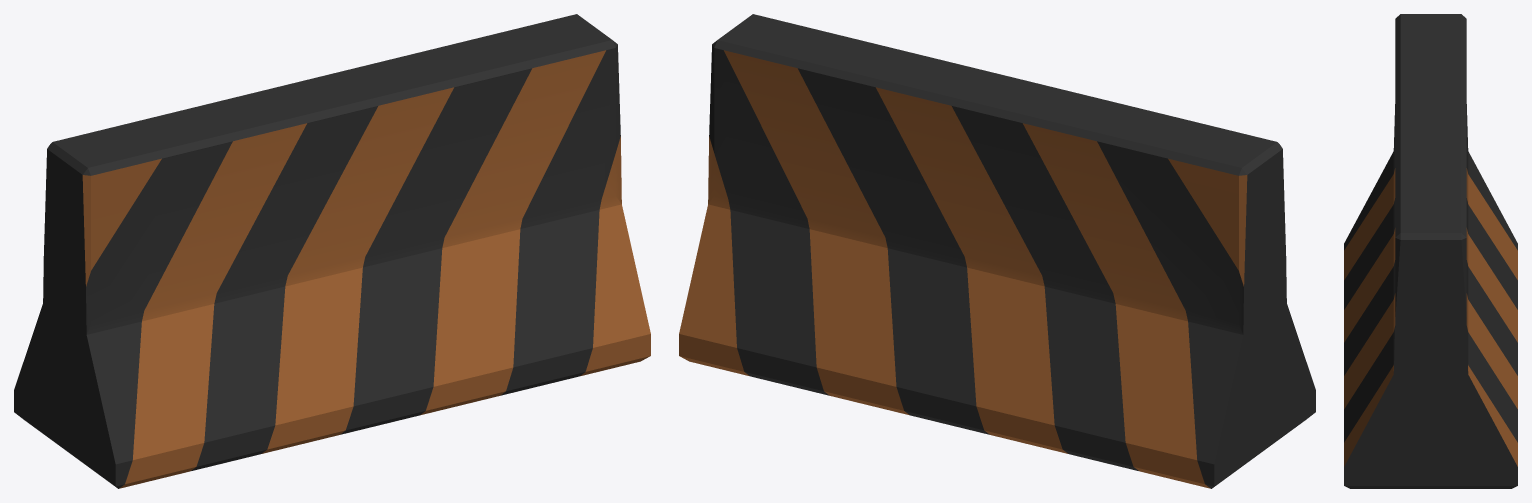
Rendered from props_59.glb.
3 renders of one model, left to right at view 1: azimuth 30°, elevation 25°; view 2: azimuth 150°, elevation 25°; view 3: azimuth 270°, elevation 25°, orthographic. The views are drawn at different scales.
Parts seen in each view (by area): view 1: props_59; view 2: props_59; view 3: props_59.
Part boxes in pixels (left/top/right/bottom): props_59: left=14, top=14, right=650, bottom=488; props_59: left=679, top=14, right=1315, bottom=488; props_59: left=1344, top=14, right=1517, bottom=488.
Size of the model in its own units: 2 by 1.07 by 0.6576.
Materials: 1 (1 with a texture image).
